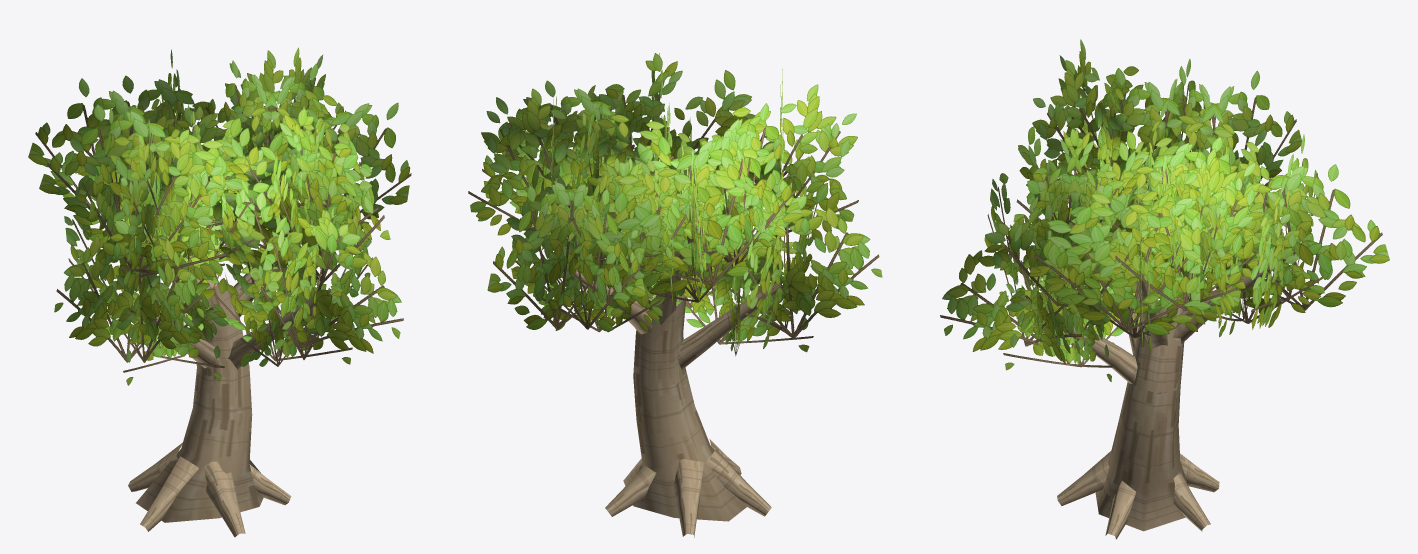
The model's file is leafcard_old_tree.glb.
3 views of the same model, side by side, from view 1: azimuth 30°, elevation 25°; view 2: azimuth 150°, elevation 25°; view 3: azimuth 270°, elevation 25° (orthographic).
Parts seen in each view (by area): view 1: leafcard_old_tree; view 2: leafcard_old_tree; view 3: leafcard_old_tree.
Boxes of the visible parts, bbox=[...] form: leafcard_old_tree: bbox=[28, 47, 411, 537]; leafcard_old_tree: bbox=[468, 53, 882, 537]; leafcard_old_tree: bbox=[940, 39, 1389, 539].
Bounding box in the file's own units: 5.27 × 5.6 × 5.46.
2 materials, 2 textured.
